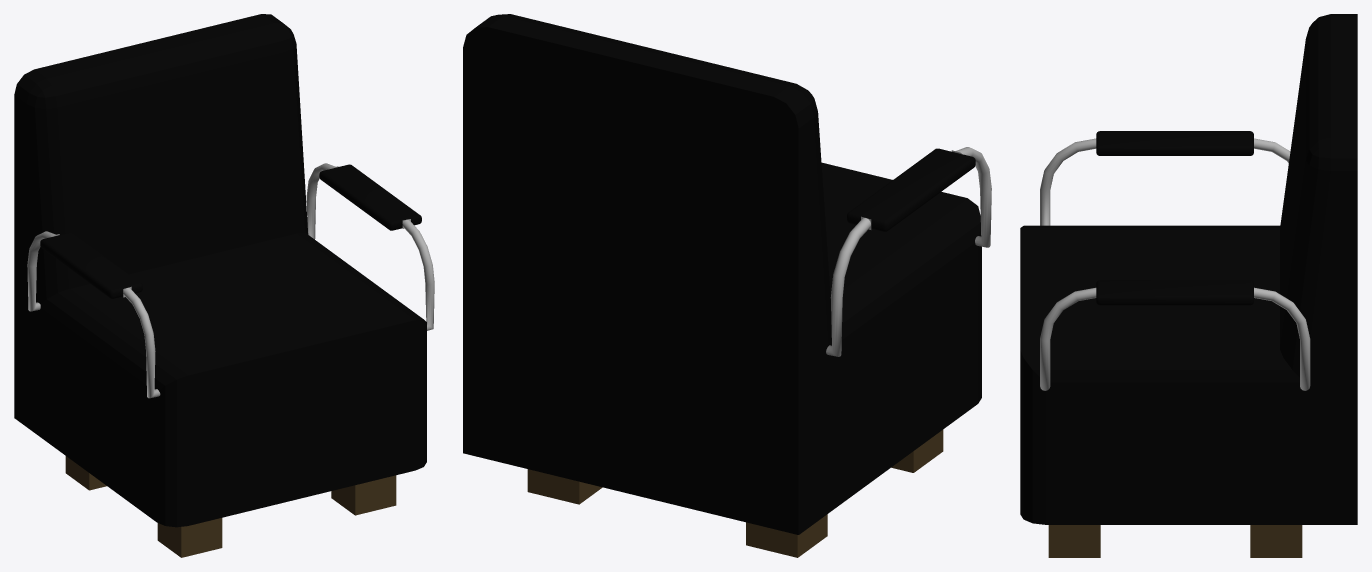
3 views of the same model, side by side, from view 1: azimuth 30°, elevation 25°; view 2: azimuth 150°, elevation 25°; view 3: azimuth 270°, elevation 25° (orthographic). The views are drawn at different scales.
Visible parts, largest first — view 1: MC-23; view 2: MC-23; view 3: MC-23.
Part boxes in pixels (box(x1,y1,x2,y2)): MC-23: box(14, 14, 434, 557); MC-23: box(463, 14, 991, 557); MC-23: box(1020, 14, 1357, 557).
Bounding box in the file's own units: 76 × 90 × 65.
